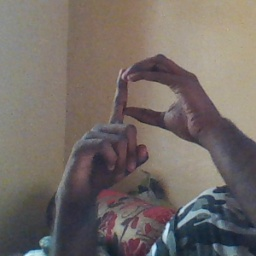P: (63, 54, 212, 195)
